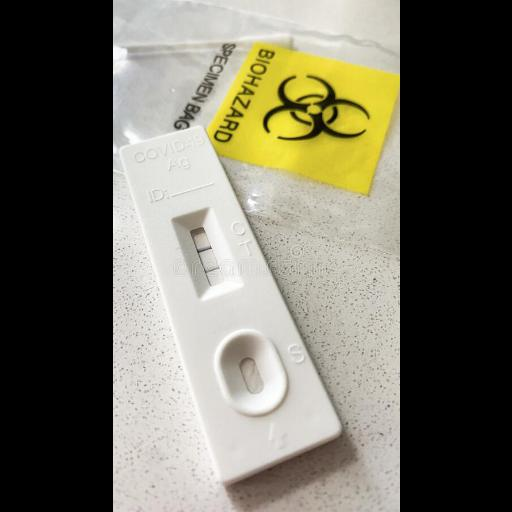Pos: (122, 127, 343, 484)
